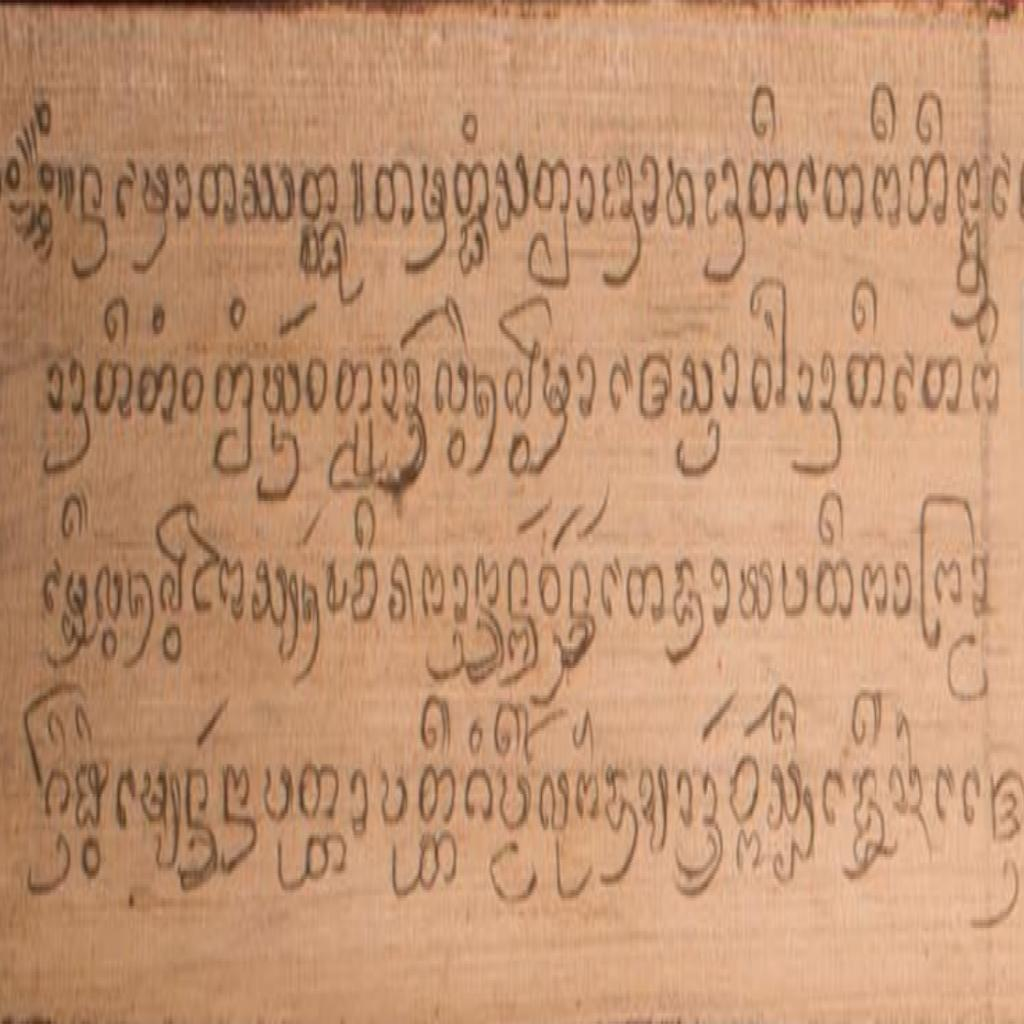LN019: (624, 556, 668, 630)
LN024: (379, 762, 411, 835)
LN026: (74, 756, 111, 836)
LN031: (139, 762, 170, 832)
LN034: (432, 353, 472, 423)
